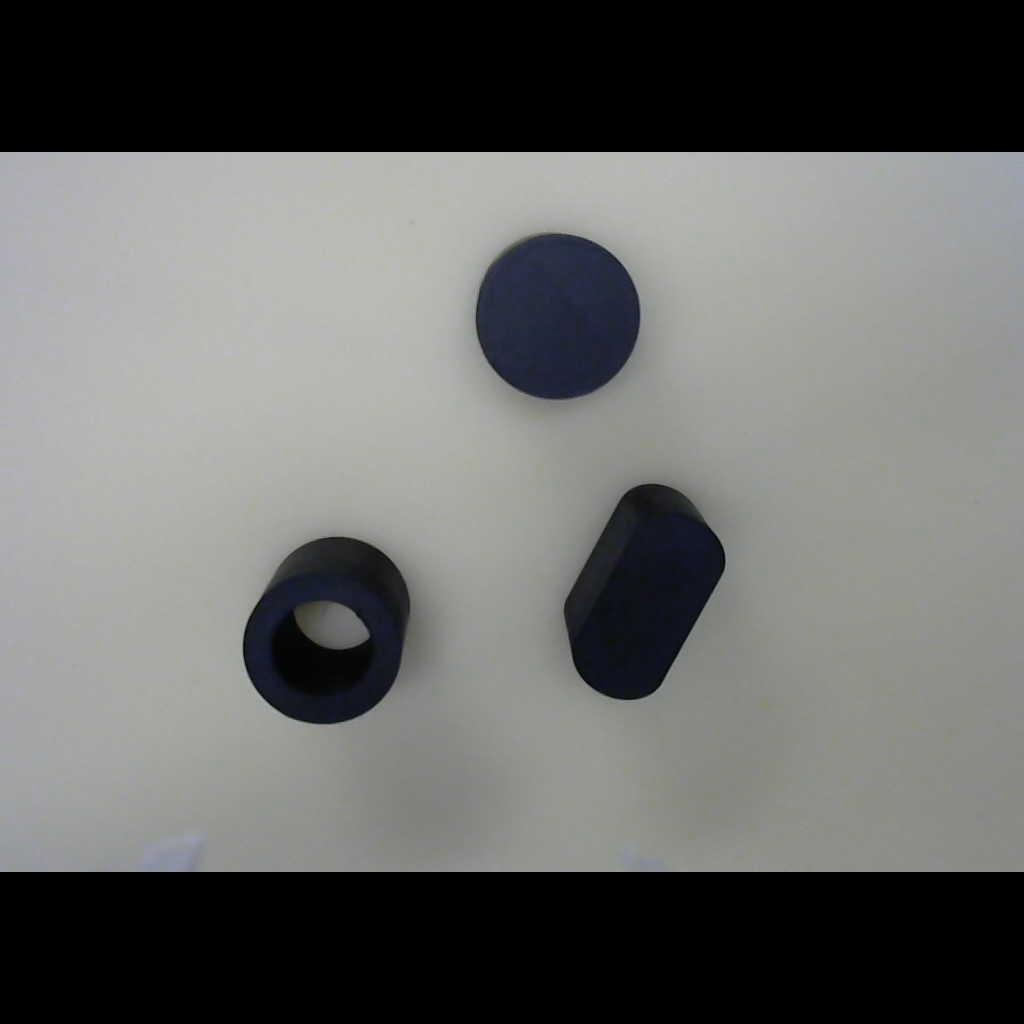circle: (476, 234, 641, 402)
oval: (517, 450, 763, 730)
ring: (231, 524, 424, 738)
